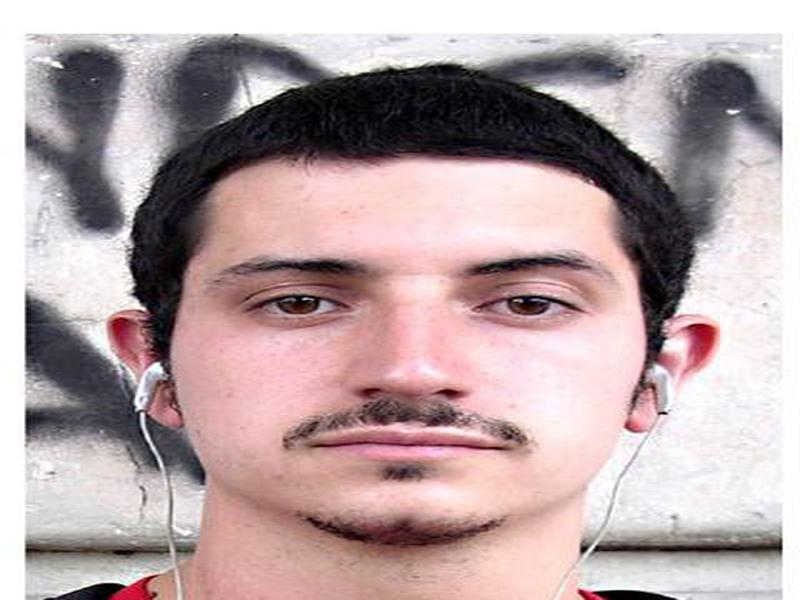without_mask: (185, 159, 627, 550)
